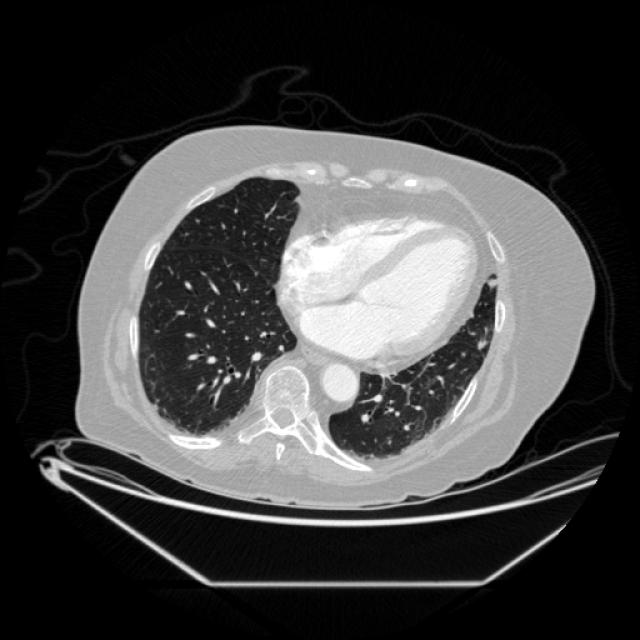nodule: (480, 271, 502, 294)
